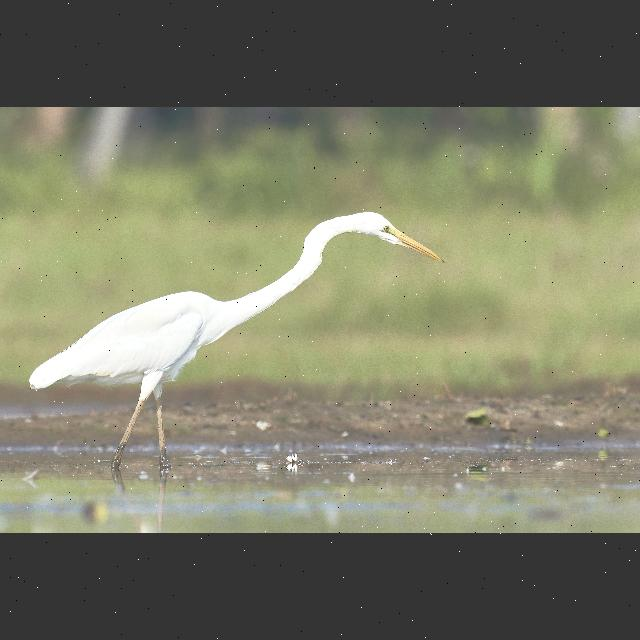egret: (29, 212, 444, 462)
